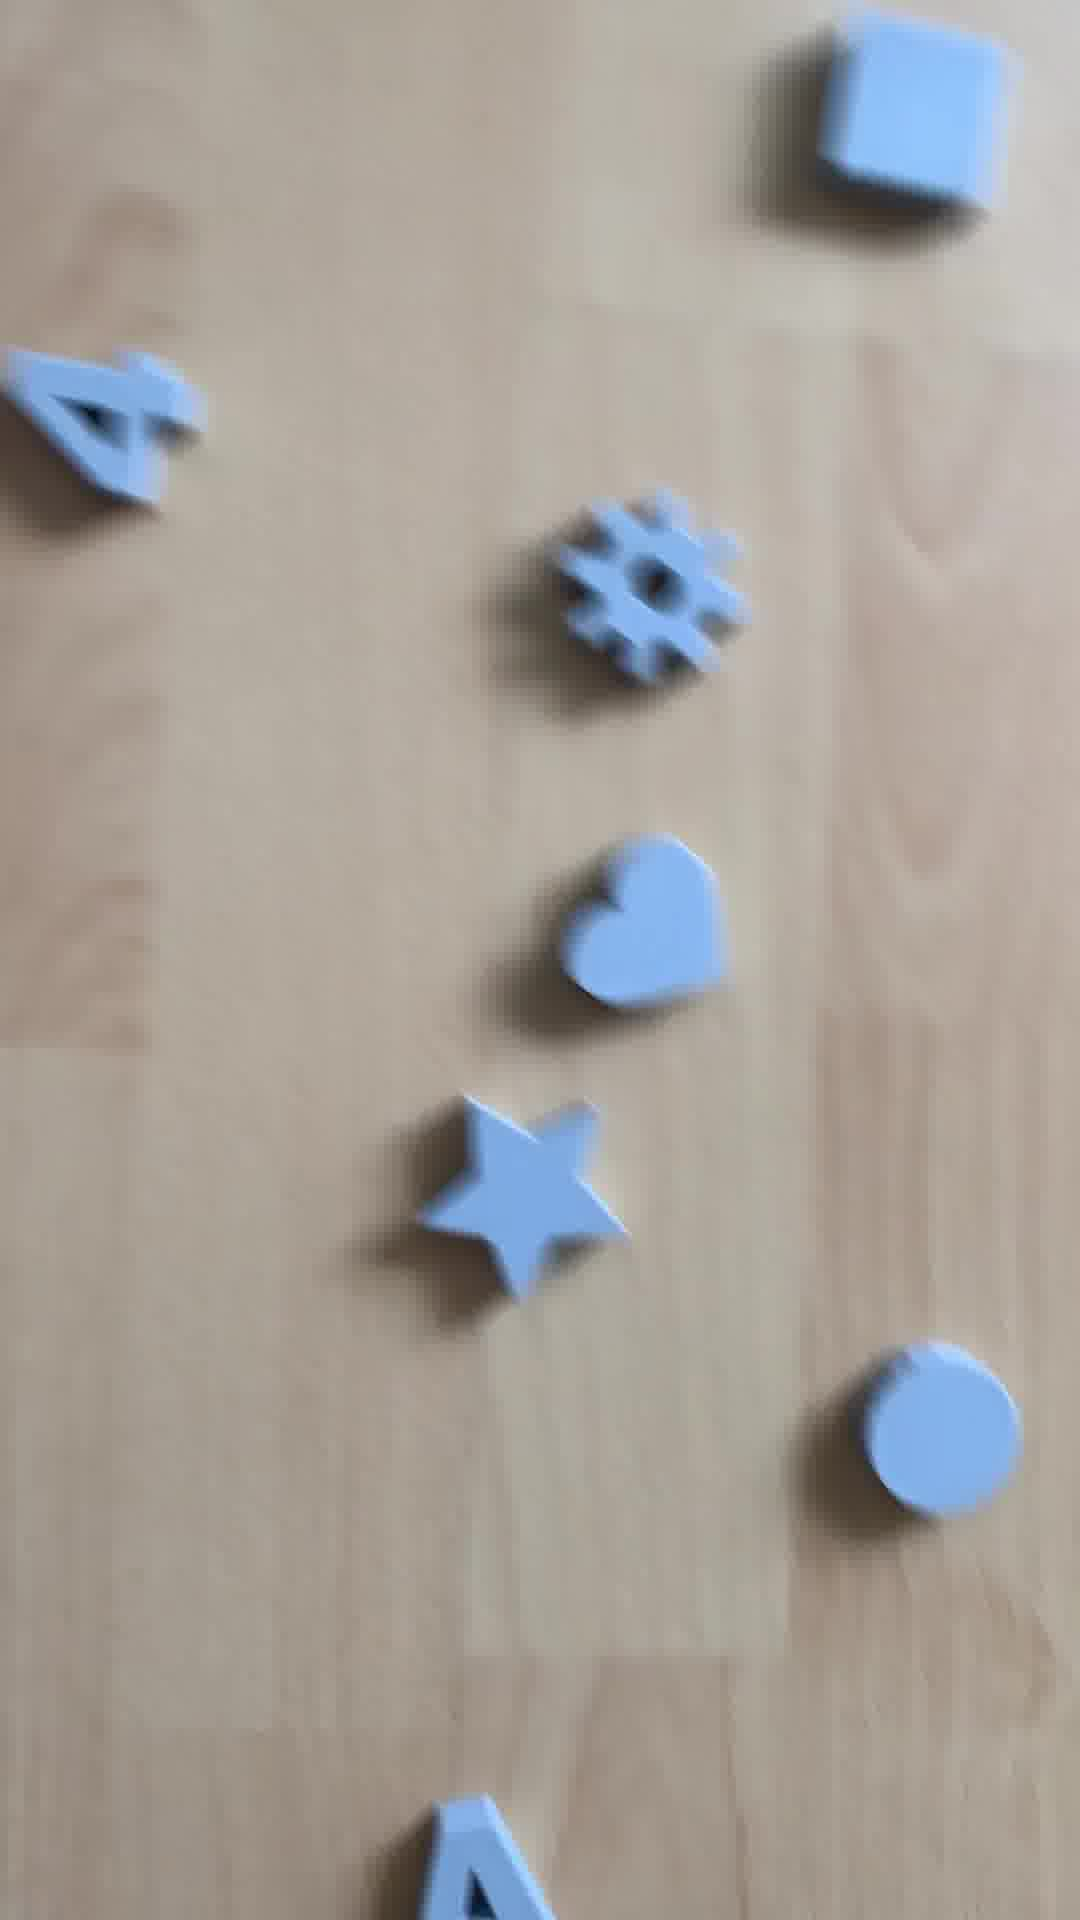Gray A-letter: (404, 1791, 545, 1920)
Gray circle: (852, 1338, 1027, 1530)
Gray four: (1, 340, 207, 524)
Gray gear: (547, 497, 735, 667)
Gray heart: (556, 837, 742, 1026)
Gray square: (807, 15, 1048, 225)
Gray star: (404, 1087, 629, 1304)
